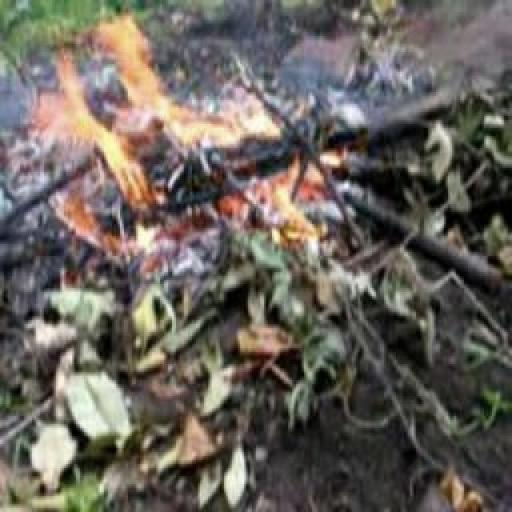smoke: (41, 24, 335, 248)
